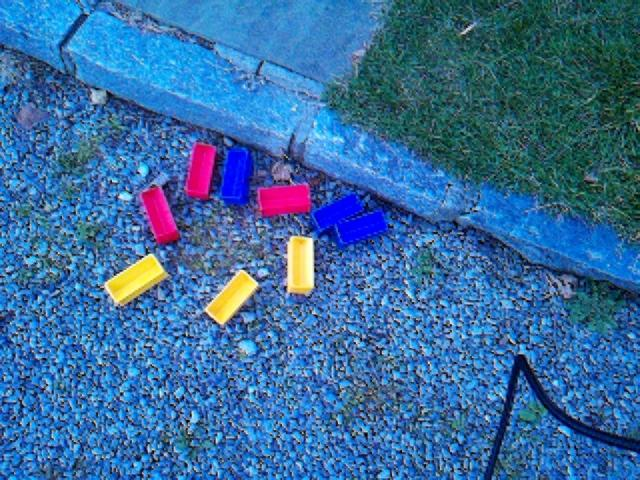blue: (312, 194, 364, 235), (220, 146, 253, 207), (334, 210, 389, 246)
red: (140, 185, 180, 245), (257, 183, 312, 218), (184, 143, 217, 201)
yellow: (105, 253, 168, 307), (204, 269, 259, 326), (286, 235, 315, 295)
